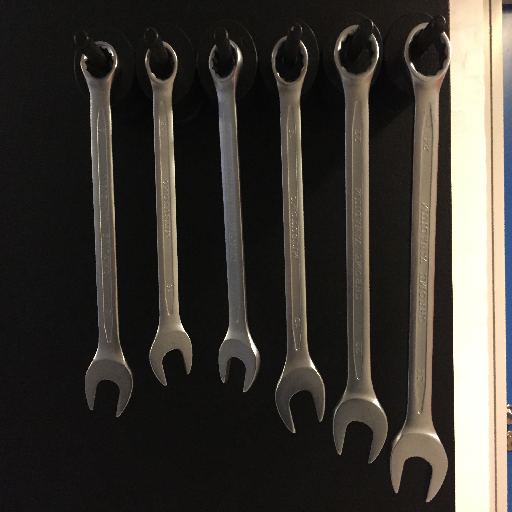bottom: (388, 428, 450, 504), (332, 395, 388, 463), (274, 365, 327, 434), (82, 350, 134, 418), (147, 324, 194, 386), (216, 331, 262, 394)
top: (403, 20, 453, 86), (333, 23, 381, 82), (268, 34, 310, 90), (77, 39, 121, 87), (141, 40, 182, 88), (206, 39, 245, 88)
